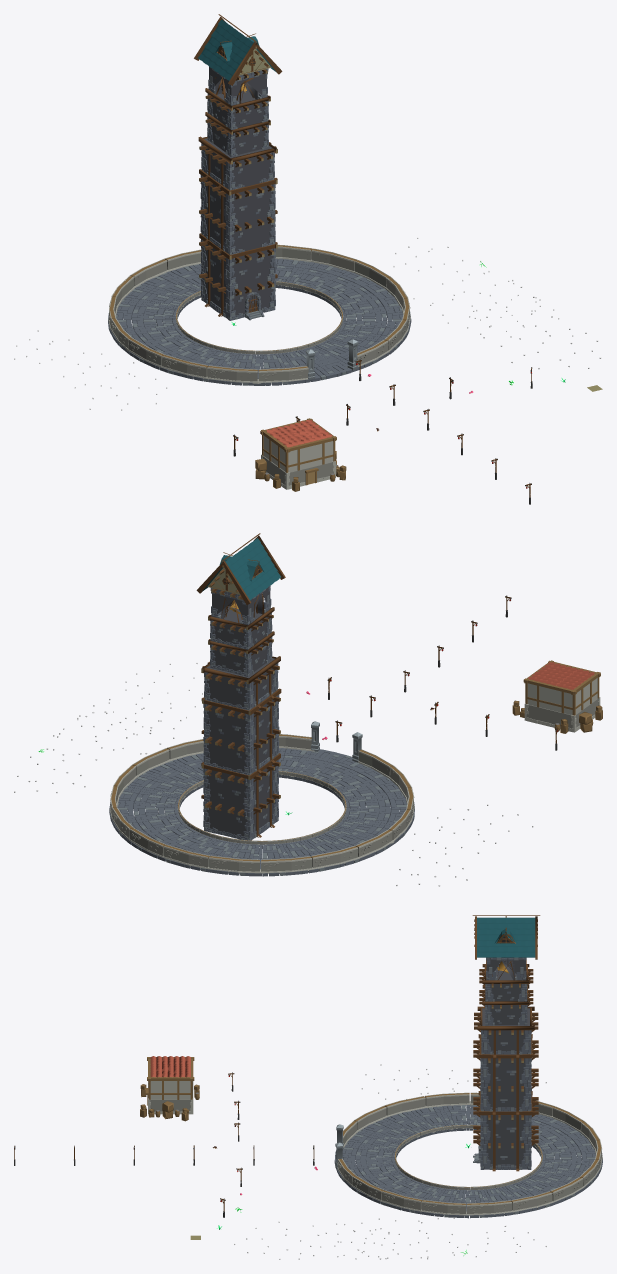
The model's file is chunk_1_2.glb.
The picture shows the model from 3 angles, top to bottom: view 1: azimuth 30°, elevation 25°; view 2: azimuth 150°, elevation 25°; view 3: azimuth 270°, elevation 25°; orthographic projection. The views are drawn at different scales.
Parts seen in each view (by area): view 1: House_3.001, Path_Straight.001, Wall_SecondAge, Storage_SecondAge_Level2.001, Wall_SecondAge.001; view 2: House_3.001, Path_Straight.001, Wall_SecondAge, Storage_SecondAge_Level2.001, Wall_SecondAge.001; view 3: House_3.001, Path_Straight.001, Wall_SecondAge, Storage_SecondAge_Level2.001, Wall_SecondAge.001.
Boxes of the visible parts, left/top/right/bottom form: House_3.001: left=194, top=14, right=282, bottom=320; Path_Straight.001: left=108, top=258, right=411, bottom=385; Wall_SecondAge: left=108, top=244, right=410, bottom=383; Storage_SecondAge_Level2.001: left=255, top=418, right=346, bottom=491; Wall_SecondAge.001: left=175, top=281, right=343, bottom=354; House_3.001: left=196, top=533, right=285, bottom=840; Path_Straight.001: left=109, top=748, right=414, bottom=876; Wall_SecondAge: left=109, top=734, right=414, bottom=873; Storage_SecondAge_Level2.001: left=512, top=660, right=602, bottom=733; Wall_SecondAge.001: left=177, top=771, right=346, bottom=844; House_3.001: left=472, top=915, right=540, bottom=1171; Path_Straight.001: left=334, top=1105, right=602, bottom=1218; Wall_SecondAge: left=337, top=1092, right=602, bottom=1215; Storage_SecondAge_Level2.001: left=140, top=1056, right=199, bottom=1121; Wall_SecondAge.001: left=394, top=1124, right=542, bottom=1190.
Bounding box in the file's own units: 88.76 × 51.62 × 112.
Materials: 31 (1 with a texture image).
